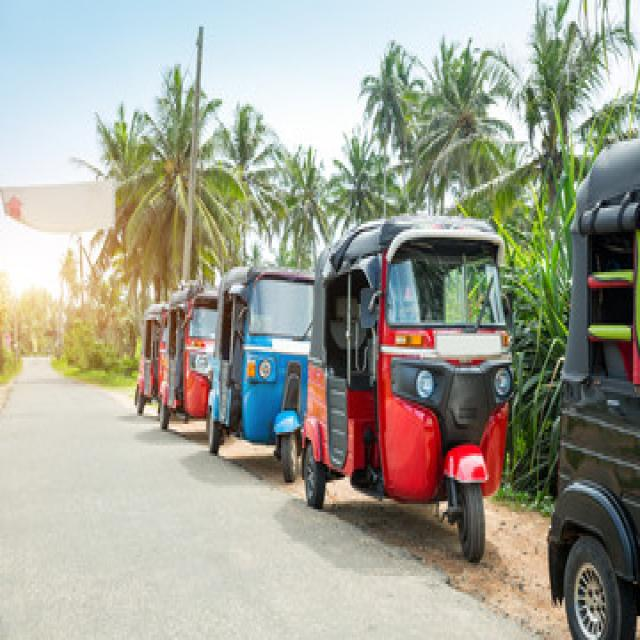three wheeler: (304, 216, 510, 560), (548, 139, 638, 637), (208, 267, 311, 480), (160, 283, 215, 427), (135, 304, 165, 413)
